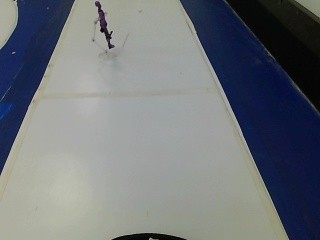pedestrian: (86, 0, 124, 56)
